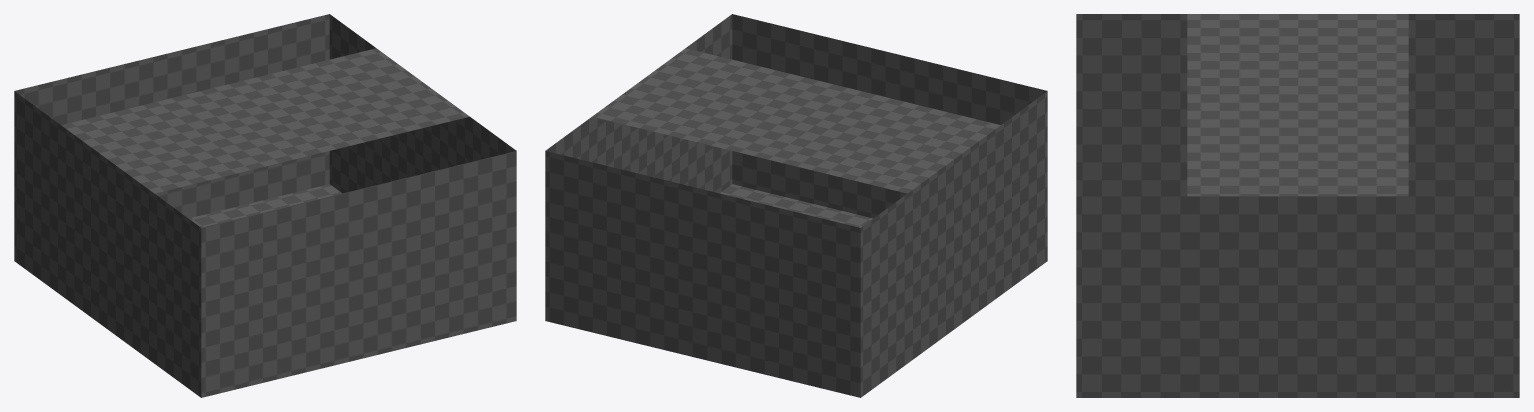
Rendered from room.obj.
3 renders of one model, left to right at view 1: azimuth 30°, elevation 25°; view 2: azimuth 150°, elevation 25°; view 3: azimuth 270°, elevation 25°, orthographic. The views are drawn at different scales.
Visible parts, largest first — view 1: Cube; view 2: Cube; view 3: Cube.
Boxes of the visible parts, left/top/right/bottom form: Cube: left=14, top=14, right=516, bottom=397; Cube: left=545, top=14, right=1047, bottom=397; Cube: left=1076, top=14, right=1519, bottom=397.
Bounding box in the file's own units: 3.88 × 2 × 3.99.
